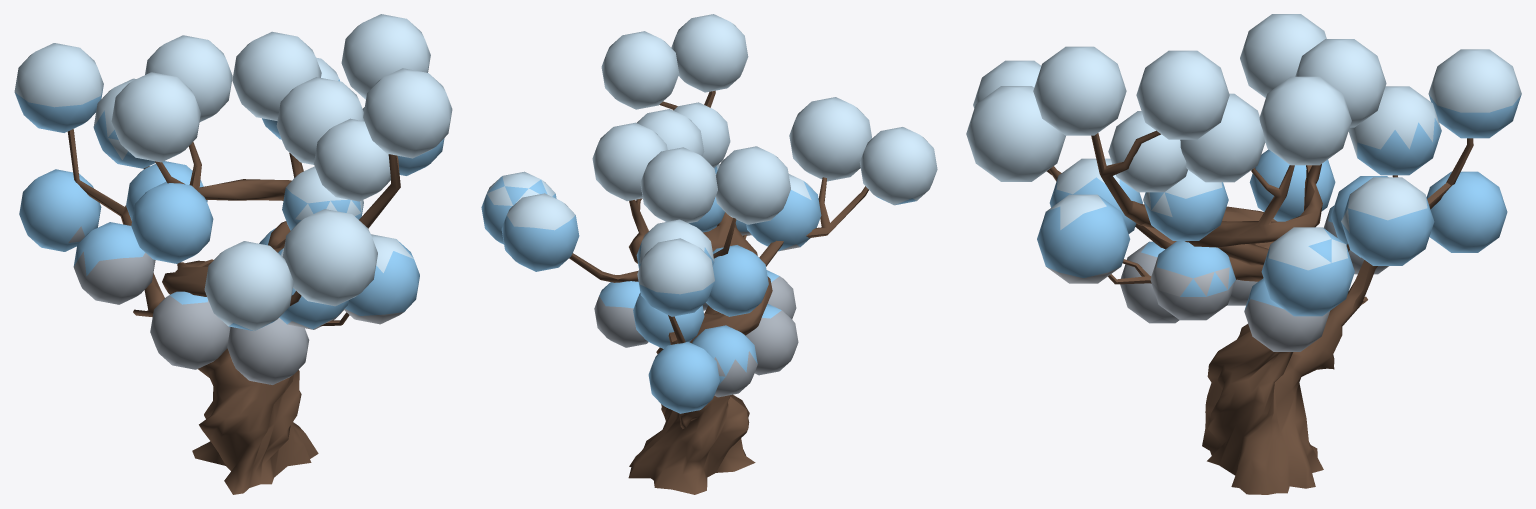
Rendered from arvore_fabulosa_grande_pacote.glb.
3 views of the same model, side by side, from view 1: azimuth 30°, elevation 25°; view 2: azimuth 150°, elevation 25°; view 3: azimuth 270°, elevation 25° (orthographic). The views are drawn at different scales.
Parts seen in each view (by area): view 1: arvore_fabulosa_grande_pacote; view 2: arvore_fabulosa_grande_pacote; view 3: arvore_fabulosa_grande_pacote.
Part boxes in pixels (left/top/right/bottom): arvore_fabulosa_grande_pacote: left=14, top=14, right=452, bottom=494; arvore_fabulosa_grande_pacote: left=481, top=14, right=937, bottom=494; arvore_fabulosa_grande_pacote: left=966, top=14, right=1521, bottom=494.
Bounding box in the file's own units: 9.51 × 11.09 × 12.15.
1 material, 1 textured.
